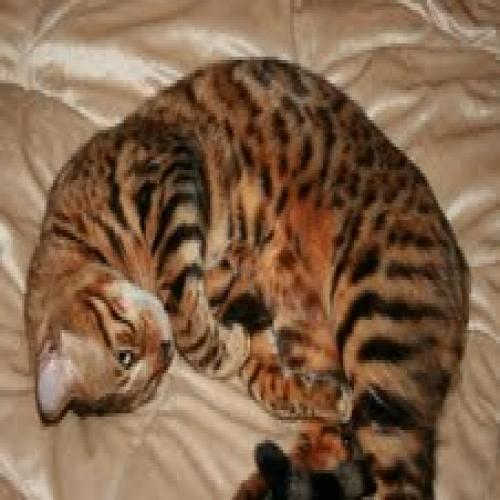cat-face: (29, 284, 182, 425)
